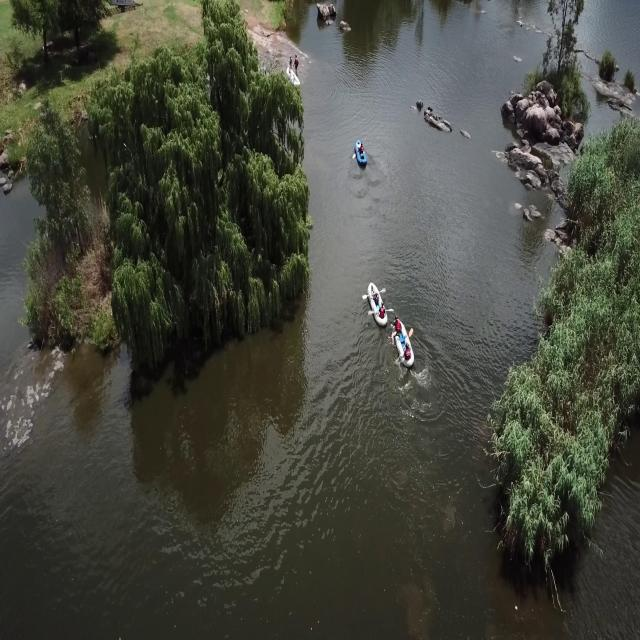kayak: (362, 282, 390, 323), (393, 315, 413, 369), (353, 141, 369, 168)
